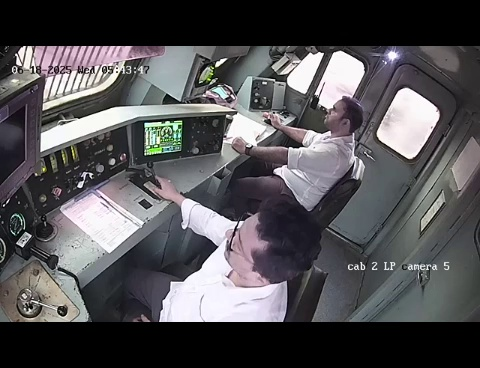brake_released: (0, 255, 99, 321)
horn_inactive: (25, 209, 64, 244)
